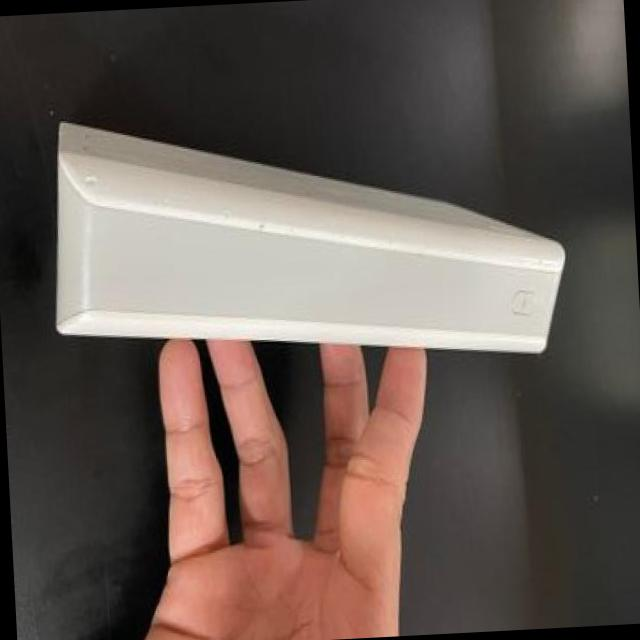power_bank: (38, 88, 579, 387)
